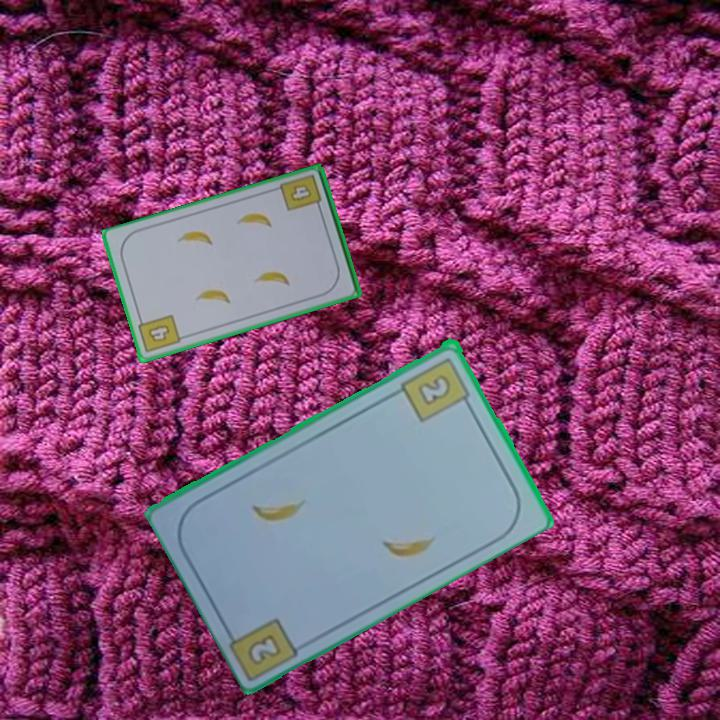2b: (398, 353, 475, 425), (243, 629, 285, 668)
4b: (134, 311, 183, 356), (277, 171, 325, 215)
